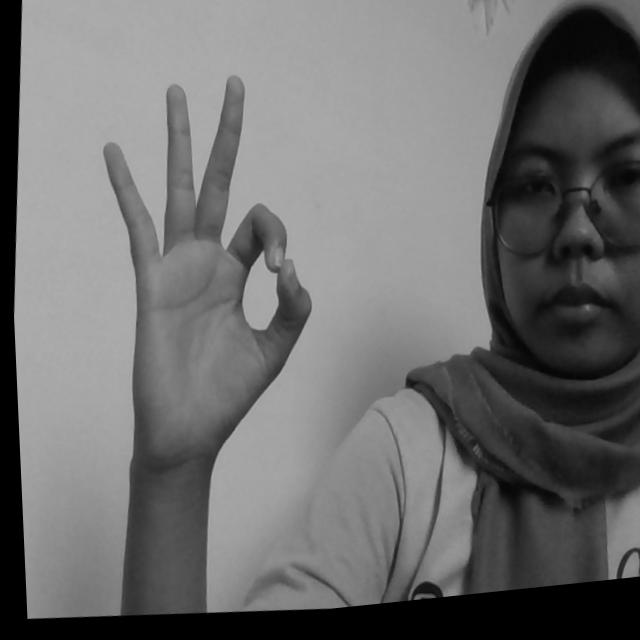F: (79, 62, 331, 476)
